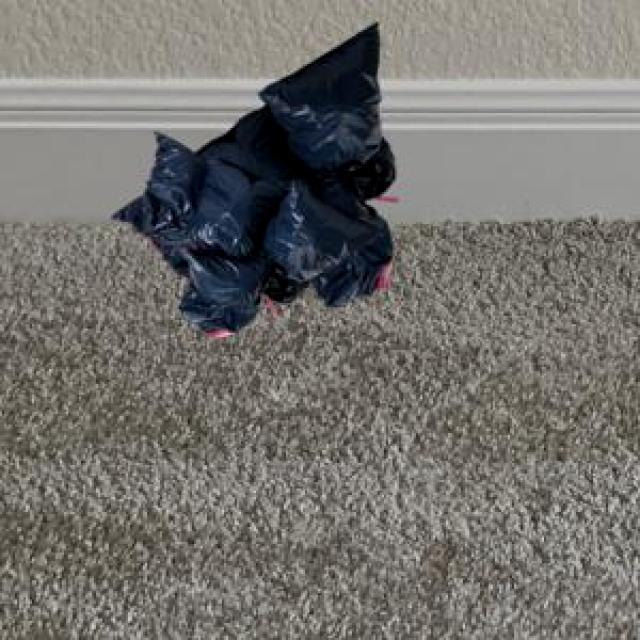Trashbag: (261, 19, 388, 169), (266, 180, 372, 276), (175, 245, 280, 337), (185, 152, 278, 255), (132, 128, 205, 238)
